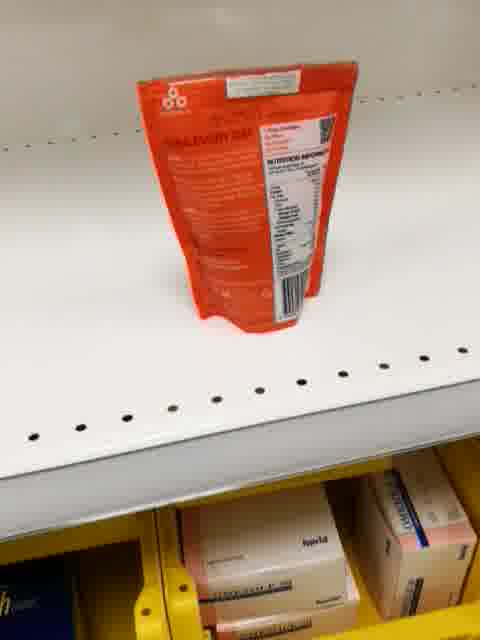whitechia: (138, 58, 362, 336)
